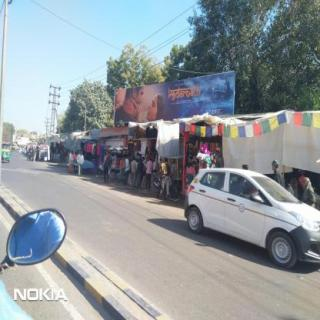Normal_vehicle: (185, 168, 319, 268)
